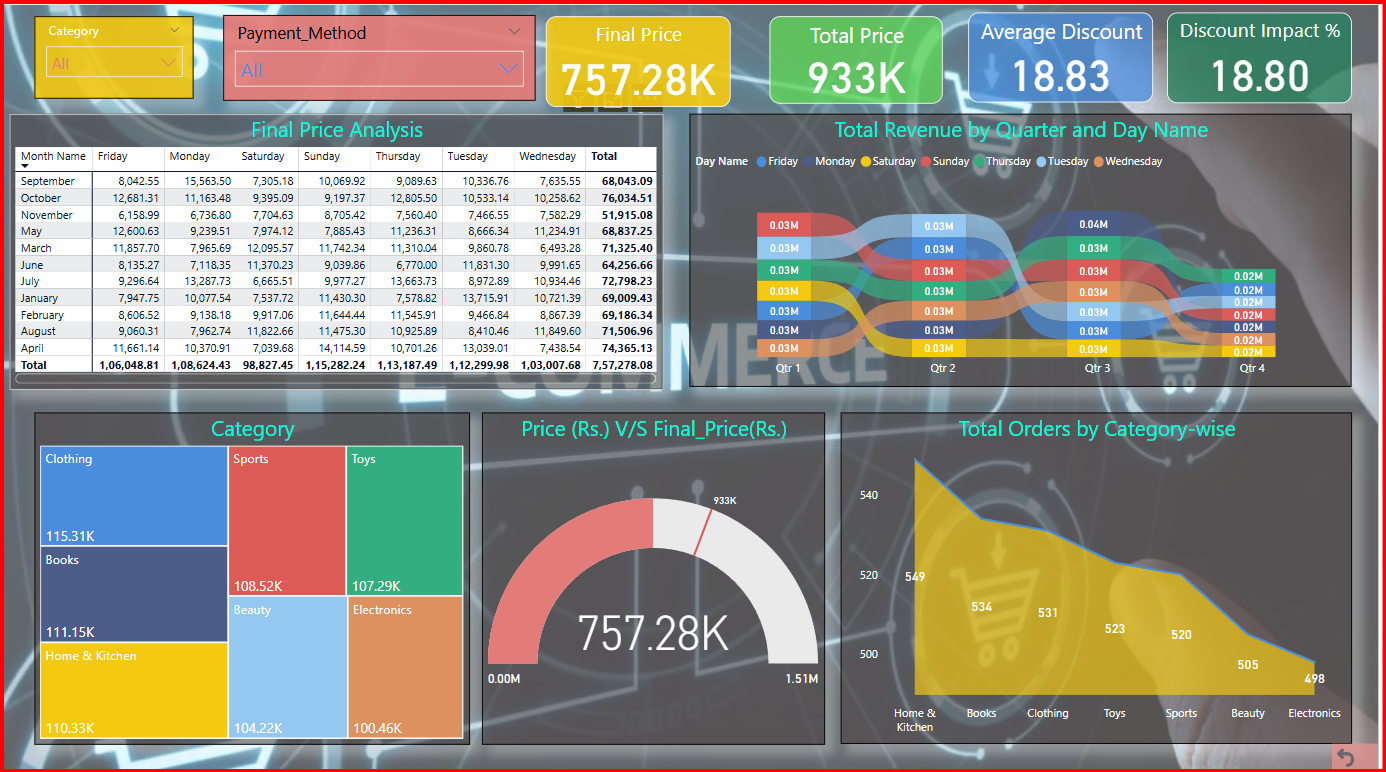

Layout of this report page (visuals, bound fields, positions):
{"tool":"powerbi","page":{"name":"All Information","canvas":[1322,736],"ordinal":2},"visuals":[{"type":"card","title":"Average Discount","fields":{"Values":["ecommerce_dataset_updated1.Average Discount"]},"box":[928.6,7.4,177.6,86.3],"z":0},{"type":"card","title":"Total Price","fields":{"Values":["ecommerce_dataset_updated1.Total Price"]},"box":[737.5,11.1,166.5,83.9],"z":1000},{"type":"card","title":"Discount Impact %","fields":{"Values":["ecommerce_dataset_updated1.Discount Impact %"]},"box":[1119.8,7.4,177.6,87.6],"z":2000},{"type":"ribbonChart","fields":{"Category":["ecommerce_dataset_updated1.Purchase_Date.Variation.Date Hierarchy.Quarter"],"Y":["ecommerce_dataset_updated1.Total Revenue"],"Series":["ecommerce_dataset_updated1.Day Name"]},"box":[661,104.8,636.4,262.7],"z":3000},{"type":"treemap","title":"Category ","fields":{"Group":["ecommerce_dataset_updated1.Category"],"Values":["Sum(ecommerce_dataset_updated1.Final_Price(Rs.))"]},"box":[30.8,390.9,418.1,319.4],"z":4000},{"type":"pivotTable","title":"Final Price Analysis ","fields":{"Values":["Sum(ecommerce_dataset_updated1.Final_Price(Rs.))"],"Rows":["ecommerce_dataset_updated1.Month Name"],"Columns":["ecommerce_dataset_updated1.Day Name"]},"box":[7.4,104.8,627.7,265.1],"z":5000},{"type":"gauge","title":"Price (Rs.) V/S Final_Price(Rs.)","fields":{"Y":["Sum(ecommerce_dataset_updated1.Final_Price(Rs.))"],"TargetValue":["ecommerce_dataset_updated1.Total Price"]},"box":[461.2,390.9,329.3,319.4],"z":6000},{"type":"card","title":"Final Price","fields":{"Values":["Sum(ecommerce_dataset_updated1.Final_Price(Rs.))"]},"box":[522.9,11.1,177.6,87.6],"z":7000},{"type":"stackedAreaChart","title":"Total Orders by Category-wise ","fields":{"Category":["ecommerce_dataset_updated1.Category"],"Y":["CountNonNull(ecommerce_dataset_updated1.Purchase_Date)"]},"box":[806.3,391.3,491.3,318.8],"z":8000},{"type":"slicer","fields":{"Values":["ecommerce_dataset_updated1.Category"]},"box":[30.8,11.1,152.9,78.9],"z":8001},{"type":"slicer","fields":{"Values":["ecommerce_dataset_updated1.Payment_Method"]},"box":[212.1,9.9,299.7,82.6],"z":8002}]}

Visuals, with their boxes in screenshot pixels (x1, y1, x2, y2), scaled from the page's 1322x736 canvas onto the 1386x772 screenshot:
"Average Discount" card: box=[974, 8, 1160, 98]
"Total Price" card: box=[773, 12, 948, 100]
"Discount Impact %" card: box=[1174, 8, 1360, 100]
ribbonChart - ecommerce_dataset_updated1.Purchase_Date.Variation.Date Hierarchy.Quarter x ecommerce_dataset_updated1.Total Revenue: box=[693, 110, 1360, 385]
"Category " treemap: box=[32, 410, 471, 745]
"Final Price Analysis " pivotTable: box=[8, 110, 666, 388]
"Price (Rs.) V/S Final_Price(Rs.)" gauge: box=[484, 410, 829, 745]
"Final Price" card: box=[548, 12, 734, 104]
"Total Orders by Category-wise " stackedAreaChart: box=[845, 410, 1360, 745]
slicer - ecommerce_dataset_updated1.Category: box=[32, 12, 193, 94]
slicer - ecommerce_dataset_updated1.Payment_Method: box=[222, 10, 537, 97]
